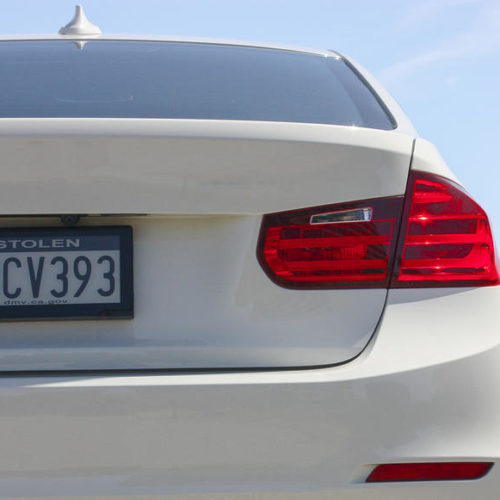license plate: (1, 228, 122, 312)
